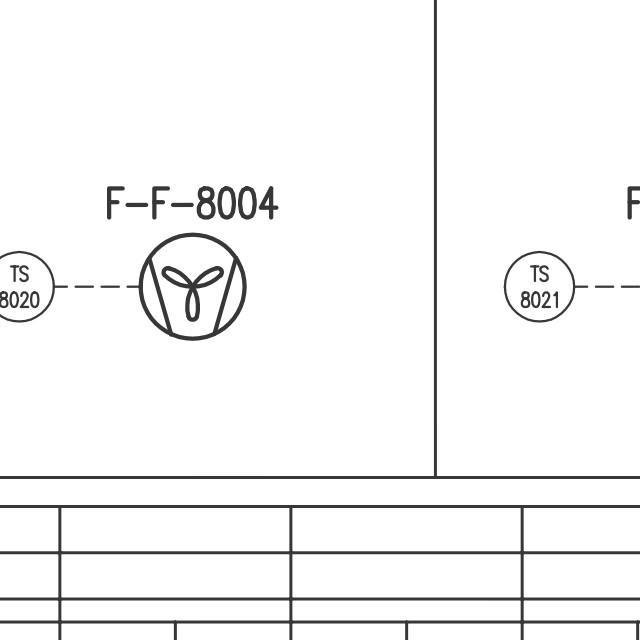F: (137, 231, 248, 342)
